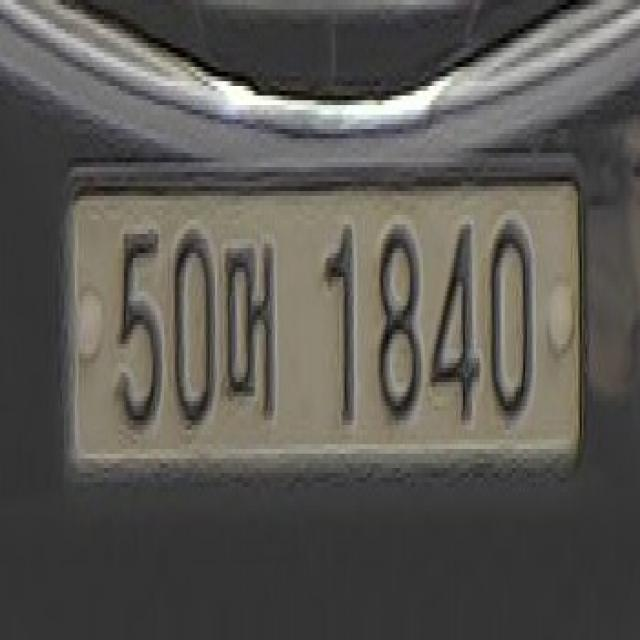0: (488, 208, 534, 439), (172, 212, 216, 436)
1: (322, 213, 362, 437)
4: (429, 215, 482, 431)
5: (108, 218, 166, 440)
8: (376, 195, 424, 430)
license_plate: (55, 174, 601, 493)
meo: (223, 220, 280, 426)
